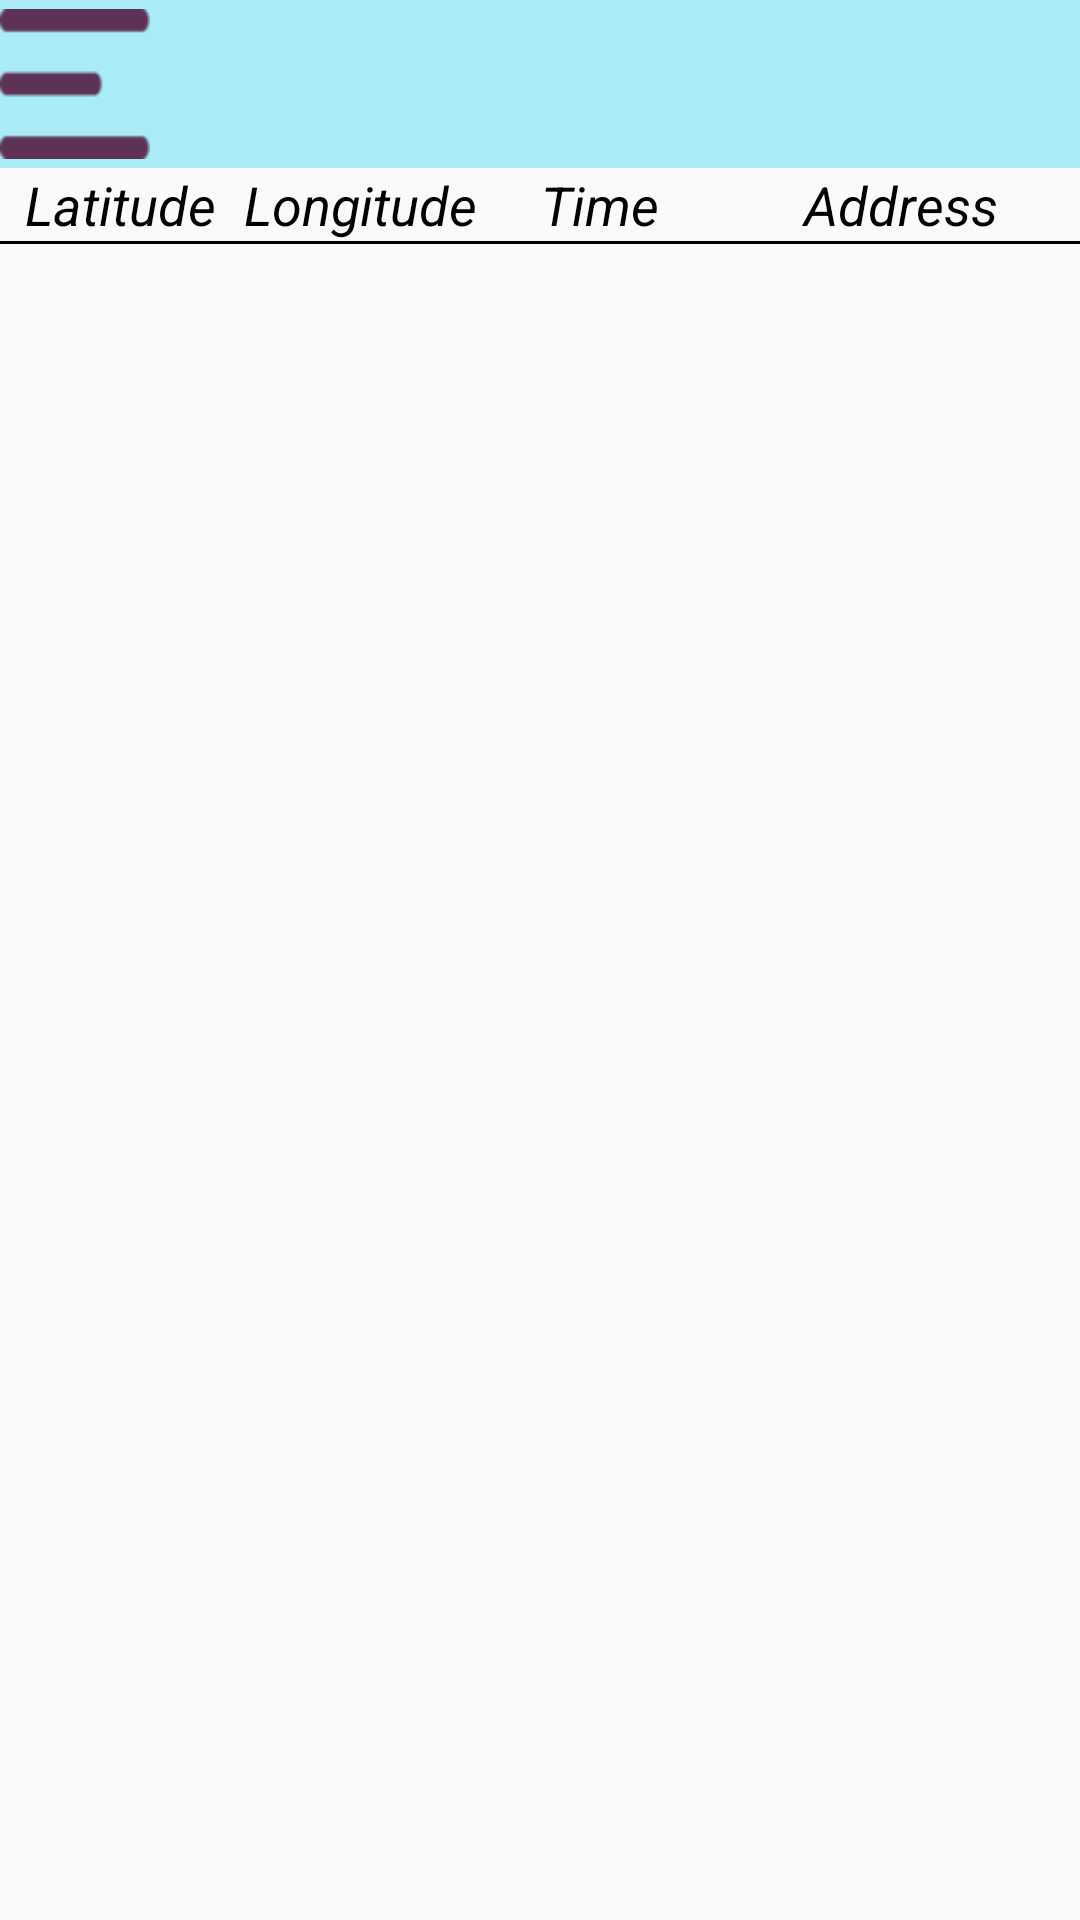

Icons on this 1080px x 1920px Android screen, each with the point to tap as (x=x, y=y):
nav: (x=75, y=84)
